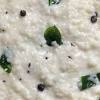curd_rice: (10, 3, 100, 97)
